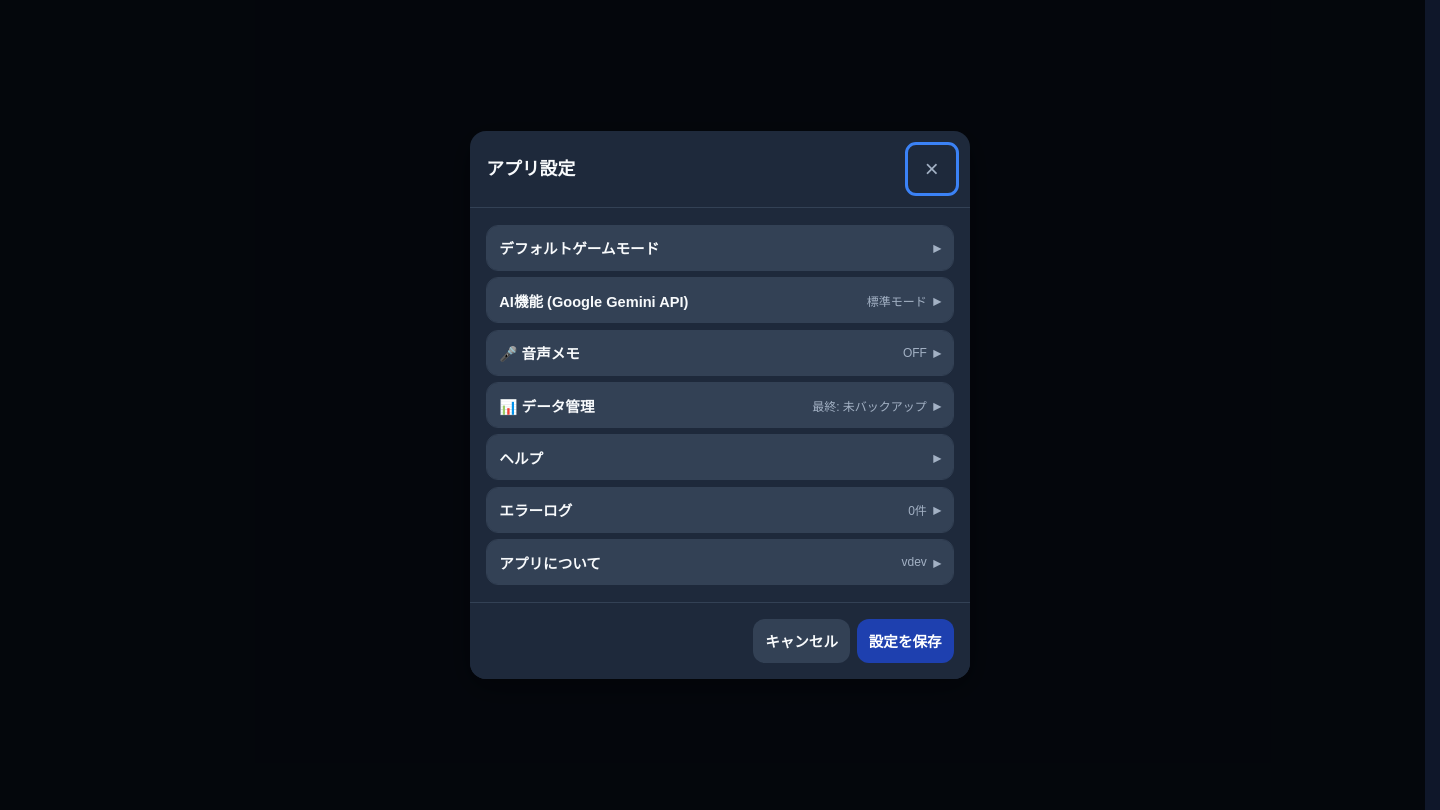
設定: 音声メモ › 既定ではOFFになっている
Step 1. Click the button "🎤 音声メモ OFF ▸" → click(540, 354), box [487,330,953,374]
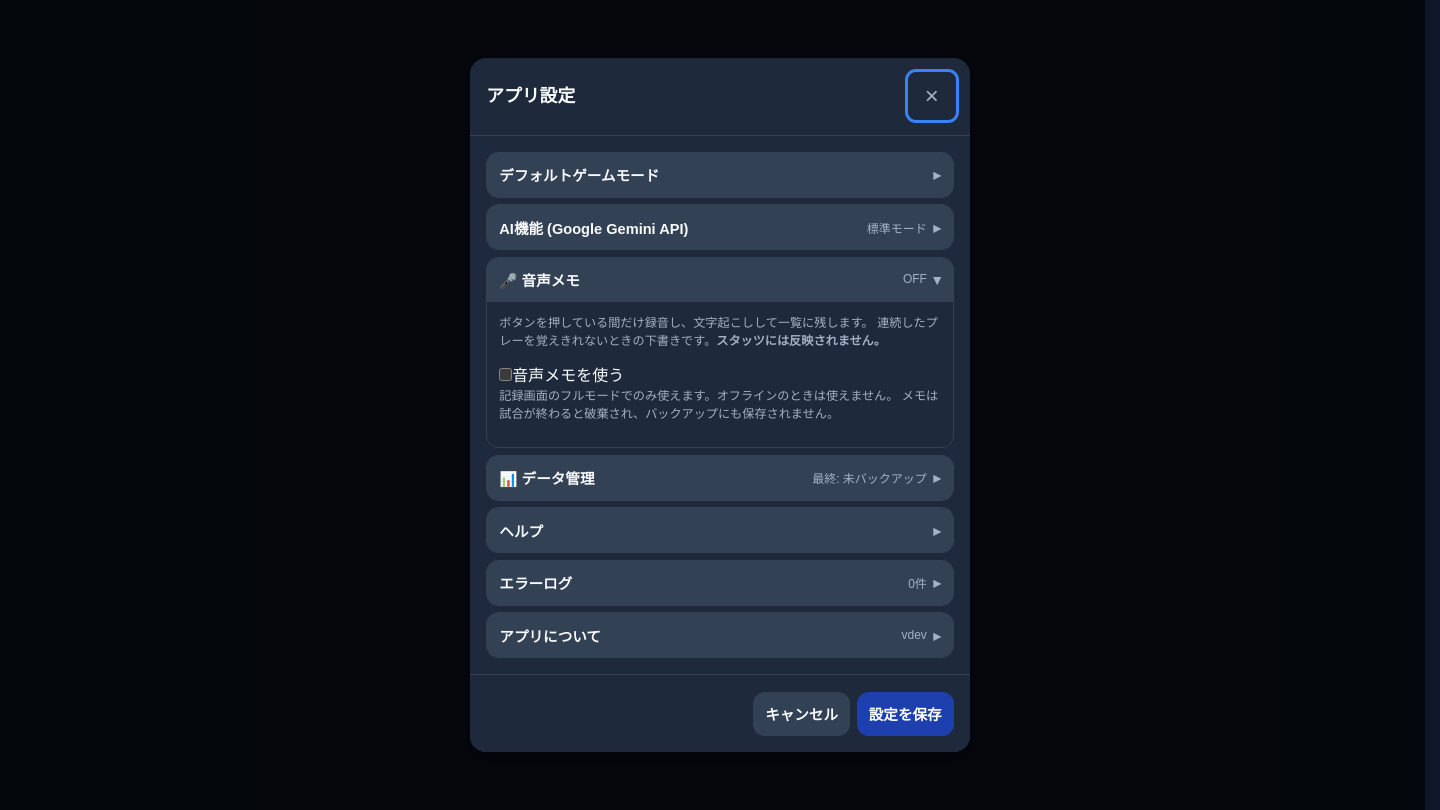
Now the checkbox labelled "音声メモを使う" is not checked, box [499,368,512,380]
